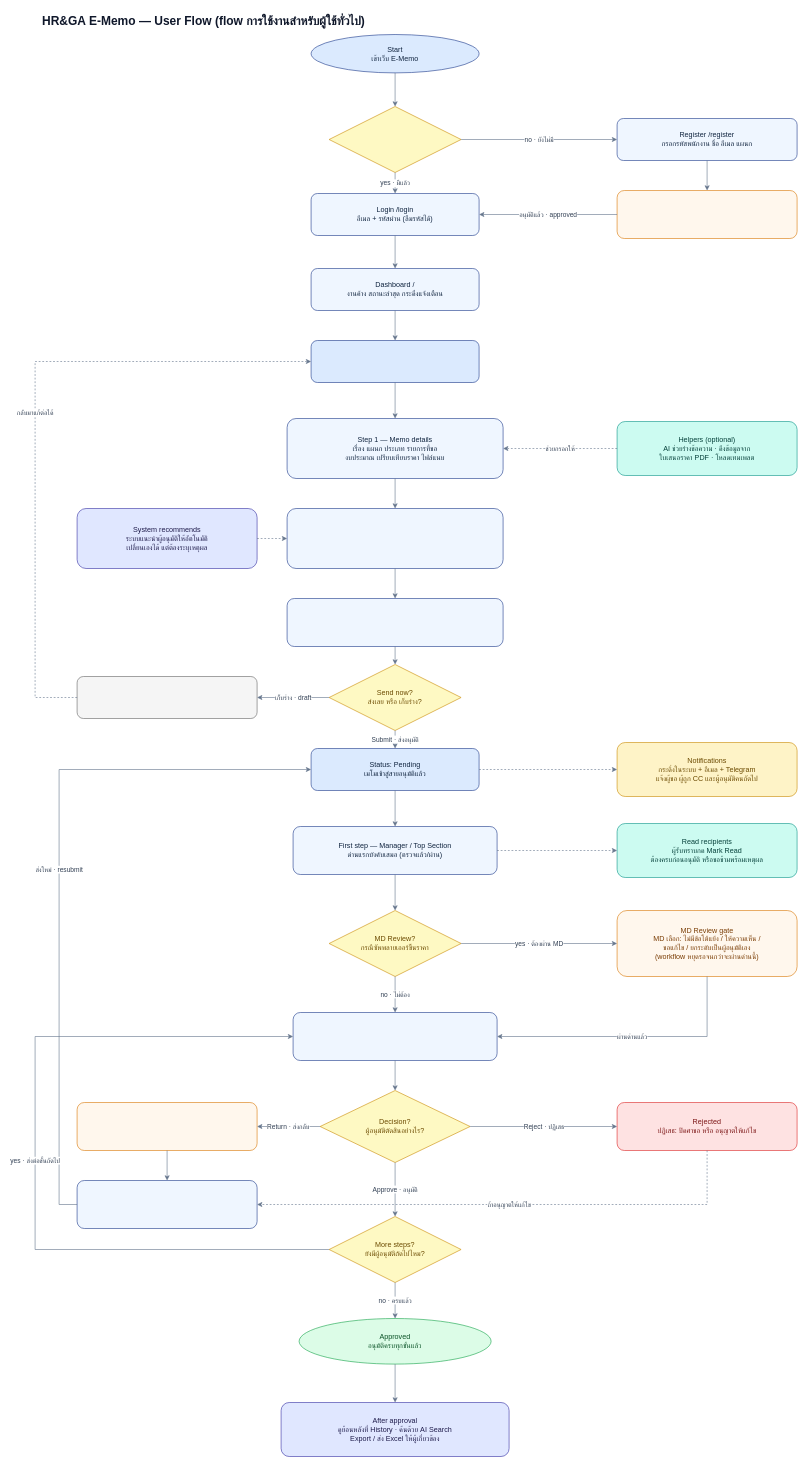
Some shapes in this 808 by 1467 pixel diagram are drawn without their labels. Each missing label, with the box of its shape:
Approver reviews ผู้อนุมัติตามเส้นทาง (Manager > GM > MD): (292, 1012, 497, 1060)
Create Memo /create กดสร้างเมโมใหม่: (310, 340, 479, 382)
Draft saved เก็บร่างไว้ ยังไม่เข้าสายอนุมัติ: (76, 676, 257, 718)
Edit & resubmit ผู้ขอแก้ไขแล้วส่งใหม่ (เลข Rev. เพิ่มขึ้น): (76, 1180, 257, 1228)
Have account? มีบัญชีแล้วหรือยัง?: (328, 106, 461, 172)
Returned ส่งกลับพร้อมเหตุผล + ระบุขั้นที่ให้กลับไป: (76, 1102, 257, 1150)
Step 2 — Approval route เลือกผู้อนุมัติปลายทาง + ผู้รับทราบ (Read): (286, 508, 503, 568)
Step 3 — Review & send ตรวจทานร่างเมโมก่อนส่ง: (286, 598, 503, 646)
Wait for admin รอ Admin อนุมัติบัญชี และกำหนดสิทธิ์ (role) ให้: (616, 190, 797, 238)
